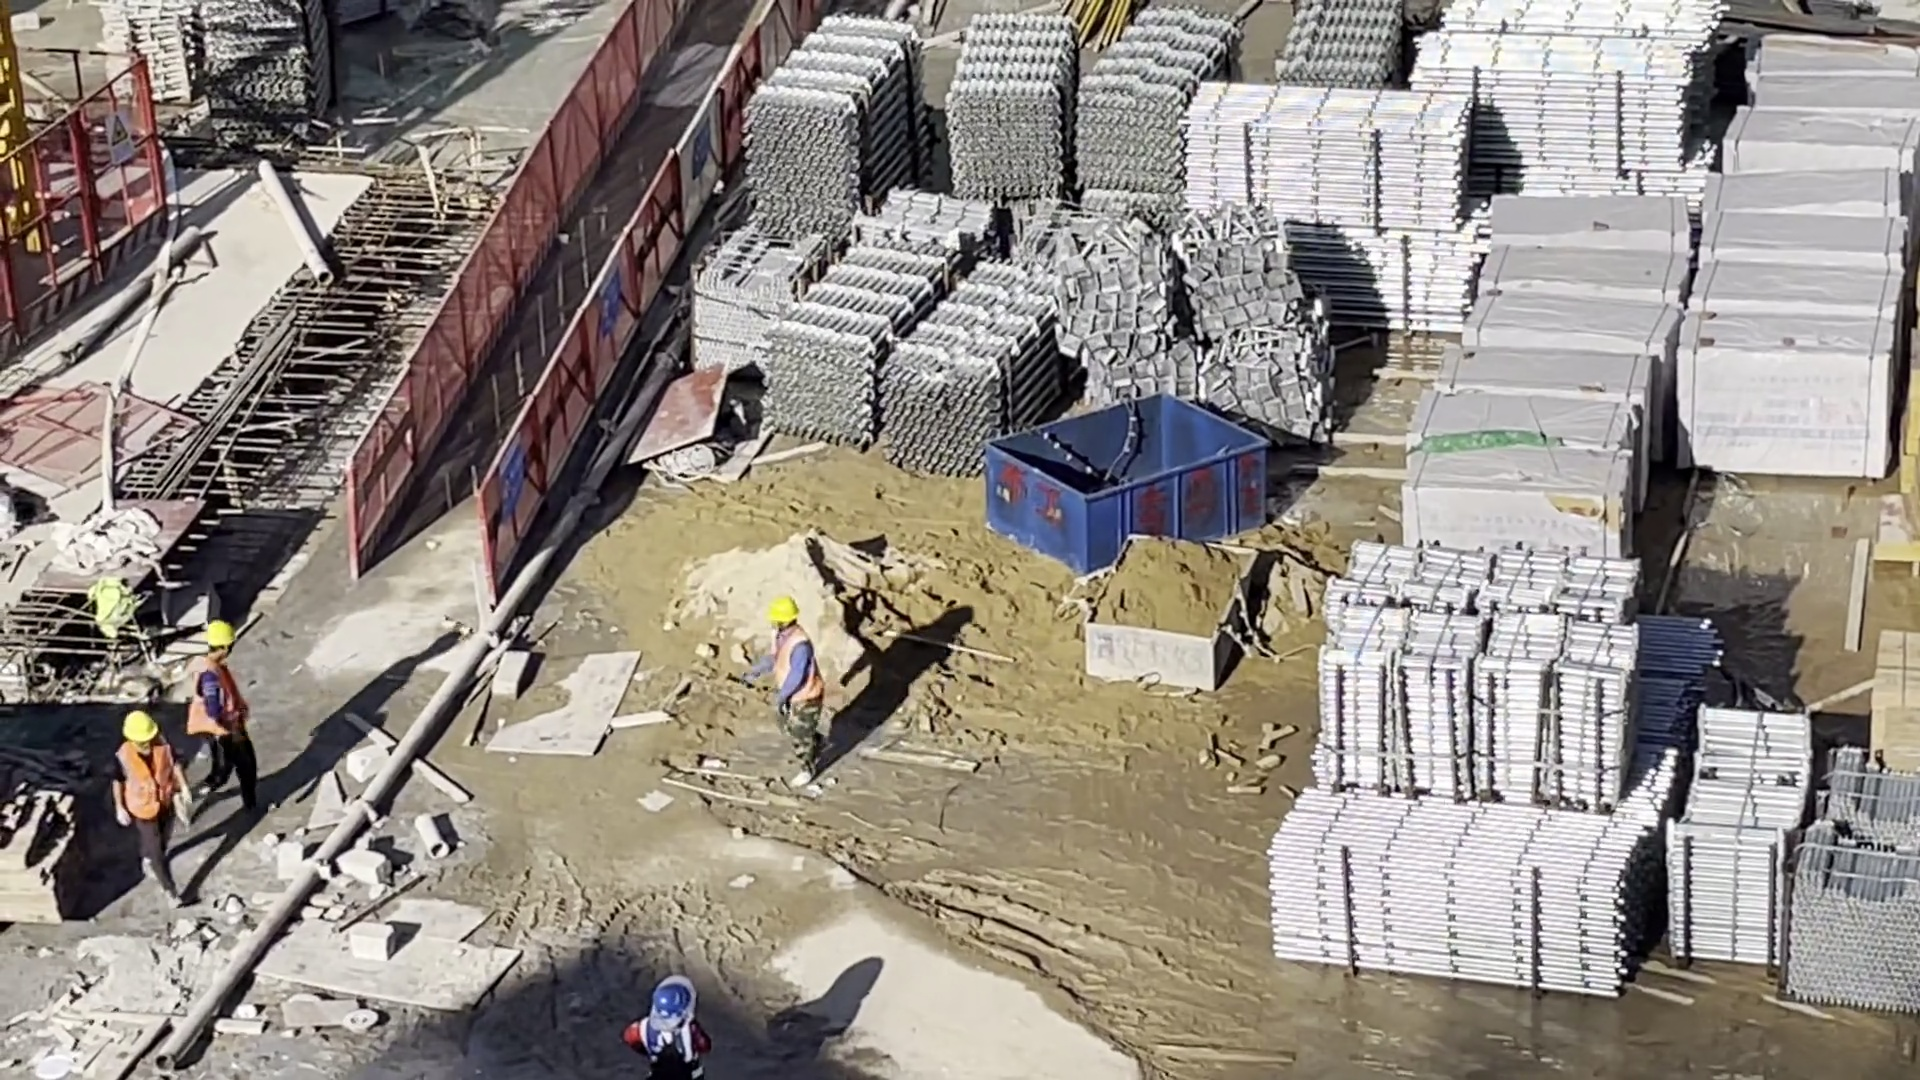board: (1865, 635, 1920, 756)
fence: (352, 1, 778, 557)
helmet: (649, 985, 693, 1017), (120, 709, 161, 742), (768, 598, 801, 622), (206, 622, 235, 648)
hopper: (983, 392, 1265, 566), (1086, 539, 1259, 691)
person: (112, 708, 189, 907), (190, 623, 262, 824), (766, 597, 828, 784), (631, 977, 710, 1080)
scaffold: (1266, 783, 1651, 996), (1319, 546, 1635, 801), (1183, 84, 1470, 327), (782, 249, 1055, 469), (951, 12, 1240, 193), (1409, 30, 1690, 191), (748, 20, 931, 245), (1671, 708, 1811, 957), (1788, 757, 1917, 1018), (204, 1, 331, 133), (1287, 1, 1405, 99), (106, 1, 200, 108)
slogan: (498, 434, 524, 514), (598, 264, 620, 330)
vest: (115, 743, 175, 826), (773, 633, 825, 712), (192, 660, 242, 737), (643, 1018, 689, 1066)
